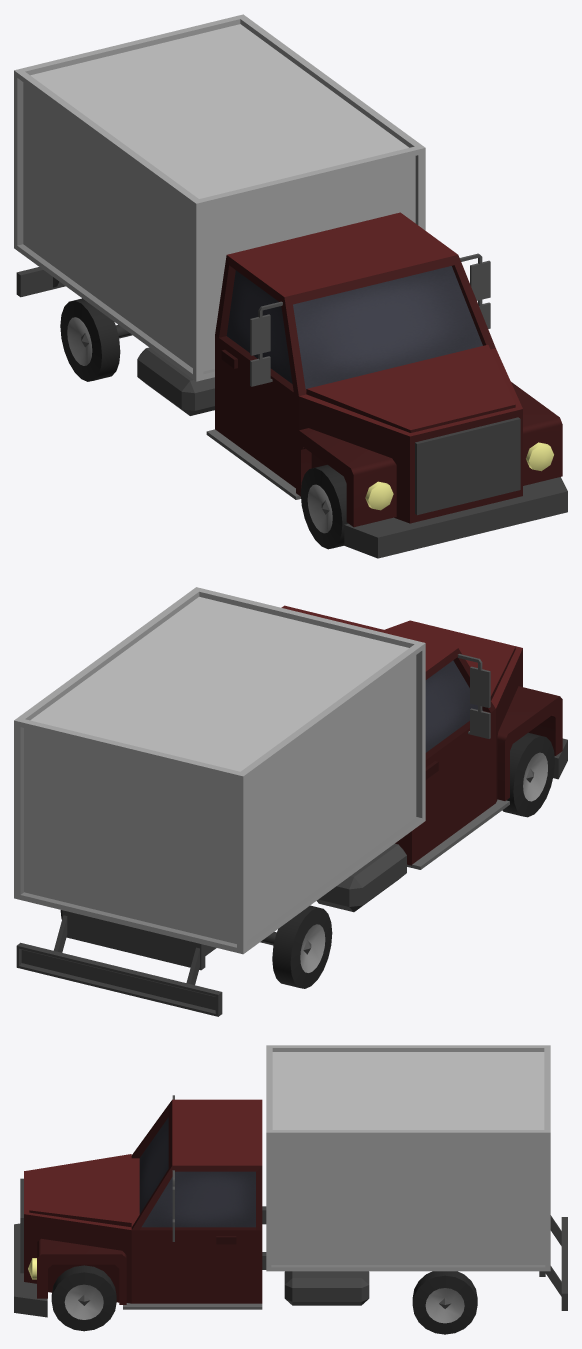
The model's file is Truck_A5.fbx.
The picture shows the model from 3 angles, top to bottom: view 1: azimuth 30°, elevation 25°; view 2: azimuth 150°, elevation 25°; view 3: azimuth 270°, elevation 25°; orthographic projection. The views are drawn at different scales.
Visible parts, largest first — view 1: Truck_Body, Truck_RR, Truck_RF; view 2: Truck_Body, Truck_RR, Truck_RF; view 3: Truck_Body, Truck_LF, Truck_LR.
Part boxes in pixels (left/top/right/bottom): Truck_Body: left=14, top=14, right=567, bottom=558; Truck_RR: left=60, top=298, right=120, bottom=381; Truck_RF: left=300, top=464, right=348, bottom=549; Truck_Body: left=14, top=587, right=567, bottom=1016; Truck_RR: left=272, top=905, right=332, bottom=988; Truck_RF: left=502, top=732, right=554, bottom=817; Truck_Body: left=14, top=1045, right=567, bottom=1317; Truck_LF: left=51, top=1265, right=116, bottom=1331; Truck_LR: left=412, top=1271, right=477, bottom=1334.
Bounding box in the file's own units: 235 × 243 × 604.
1 material, 1 textured.
